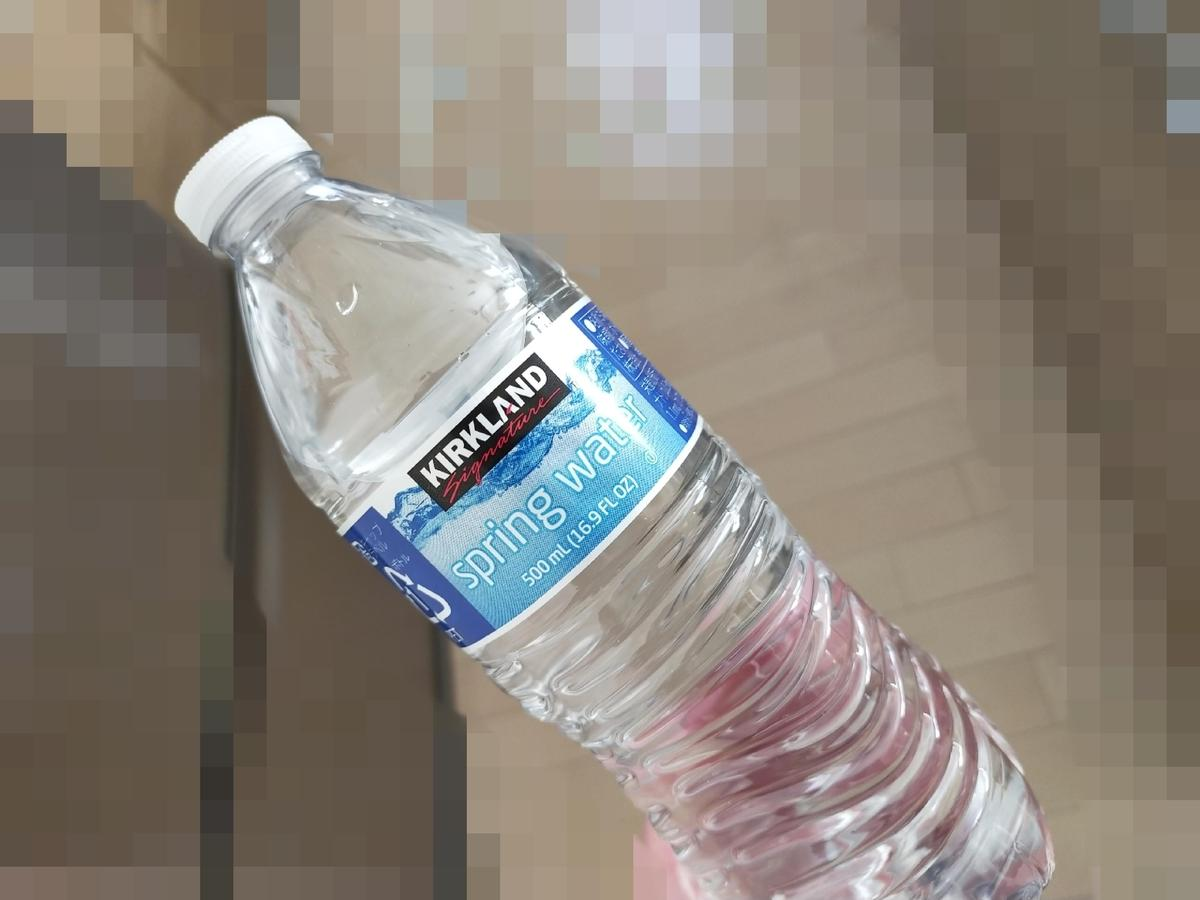plastic: (175, 116, 1053, 899)
